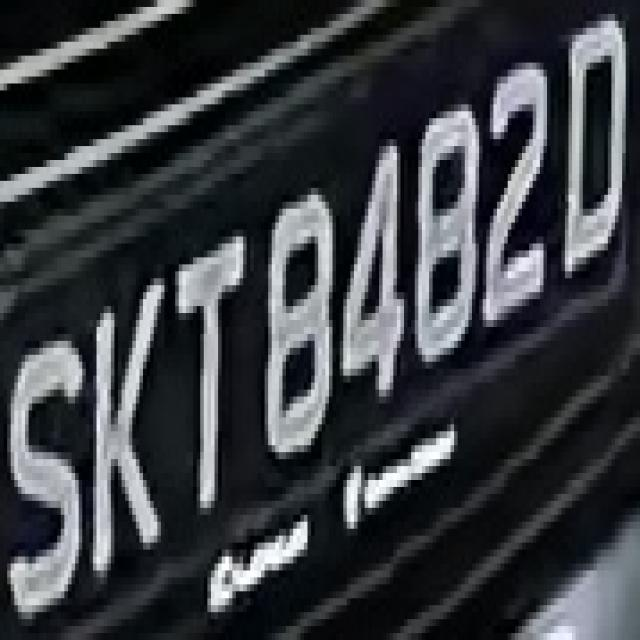2: (472, 28, 554, 334)
4: (329, 132, 411, 418)
8: (254, 174, 340, 487), (411, 90, 486, 376)
D: (554, 14, 633, 278)
K: (86, 272, 175, 592)
T: (154, 229, 257, 522)
